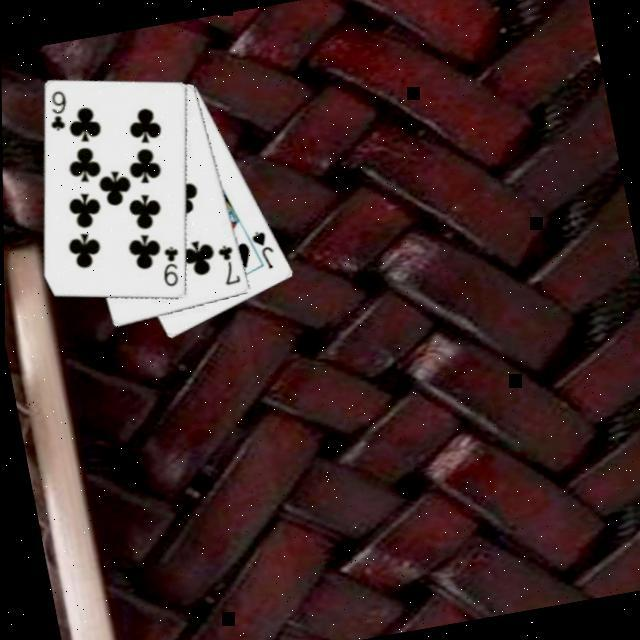7C: (211, 241, 243, 290)
9C: (40, 87, 75, 137), (152, 242, 186, 292)
JS: (246, 226, 279, 275)
